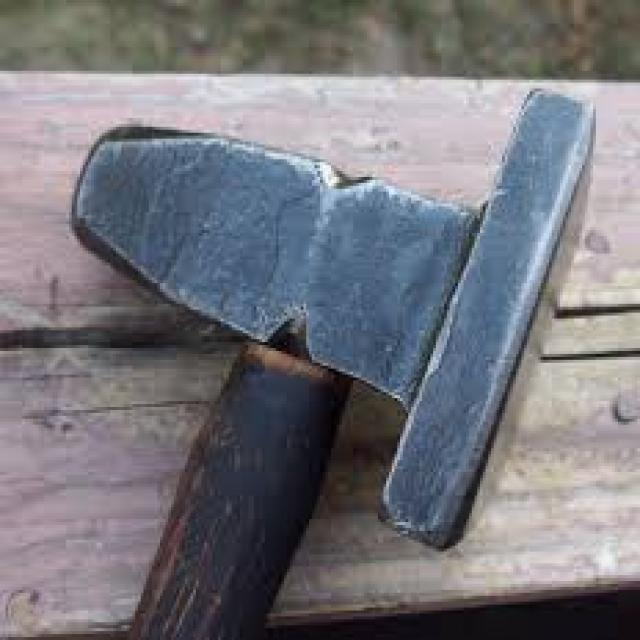hammer: (37, 68, 606, 640)
